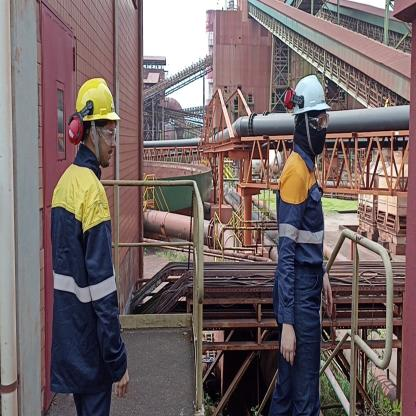Balaclava: (295, 112, 326, 156)
C_eletrica: (44, 162, 132, 392)
Capacete: (75, 76, 120, 124), (289, 72, 332, 112)
Operacional: (279, 150, 324, 326)
